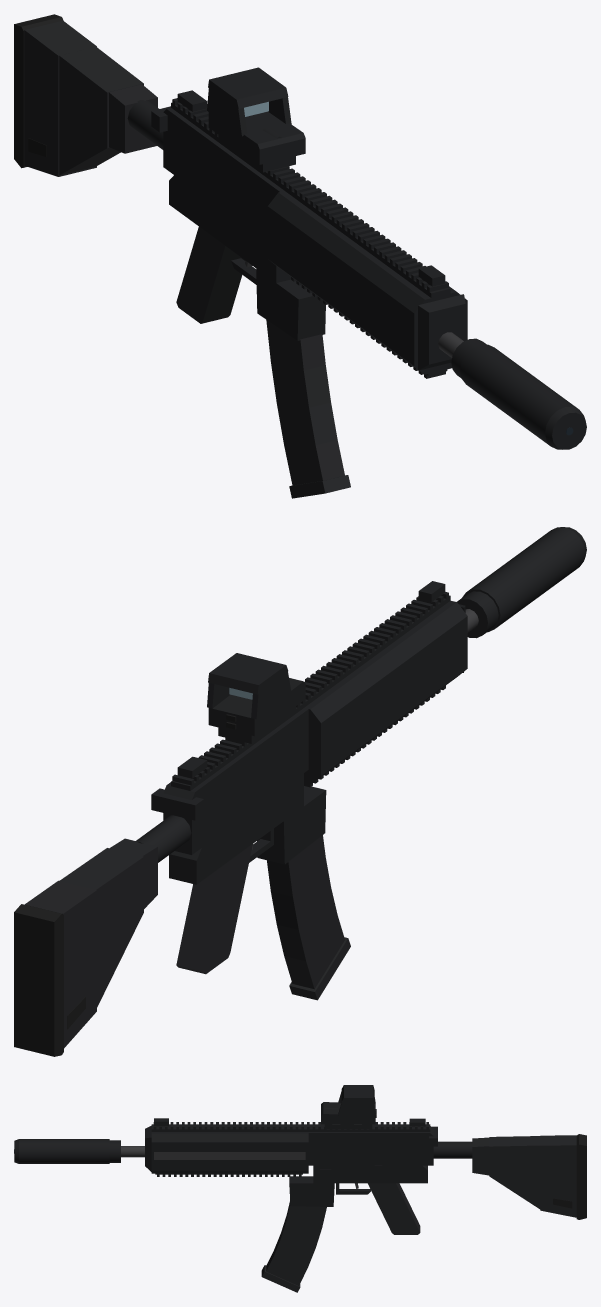
File: rifle-sd.glb
3 renders of one model, top to bottom at view 1: azimuth 30°, elevation 25°; view 2: azimuth 150°, elevation 25°; view 3: azimuth 270°, elevation 25°, orthographic. The views are drawn at different scales.
Visible parts, largest first — view 1: rifle-sd; view 2: rifle-sd; view 3: rifle-sd.
Part boxes in pixels (x1,y1,x2,y2): rifle-sd: (14,14,586,498); rifle-sd: (14,527,586,1056); rifle-sd: (14,1085,586,1292).
Bounding box in the file's own units: 0.06 × 0.3845 × 1.01.
1 material, 1 textured.
